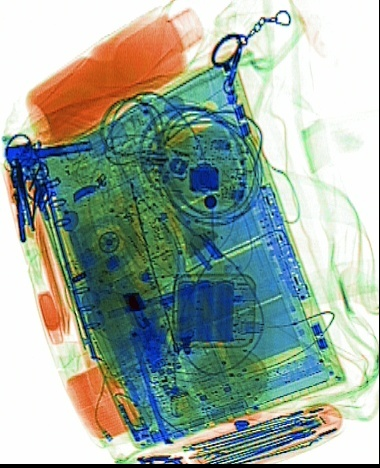powerbank: (163, 269, 258, 350)
